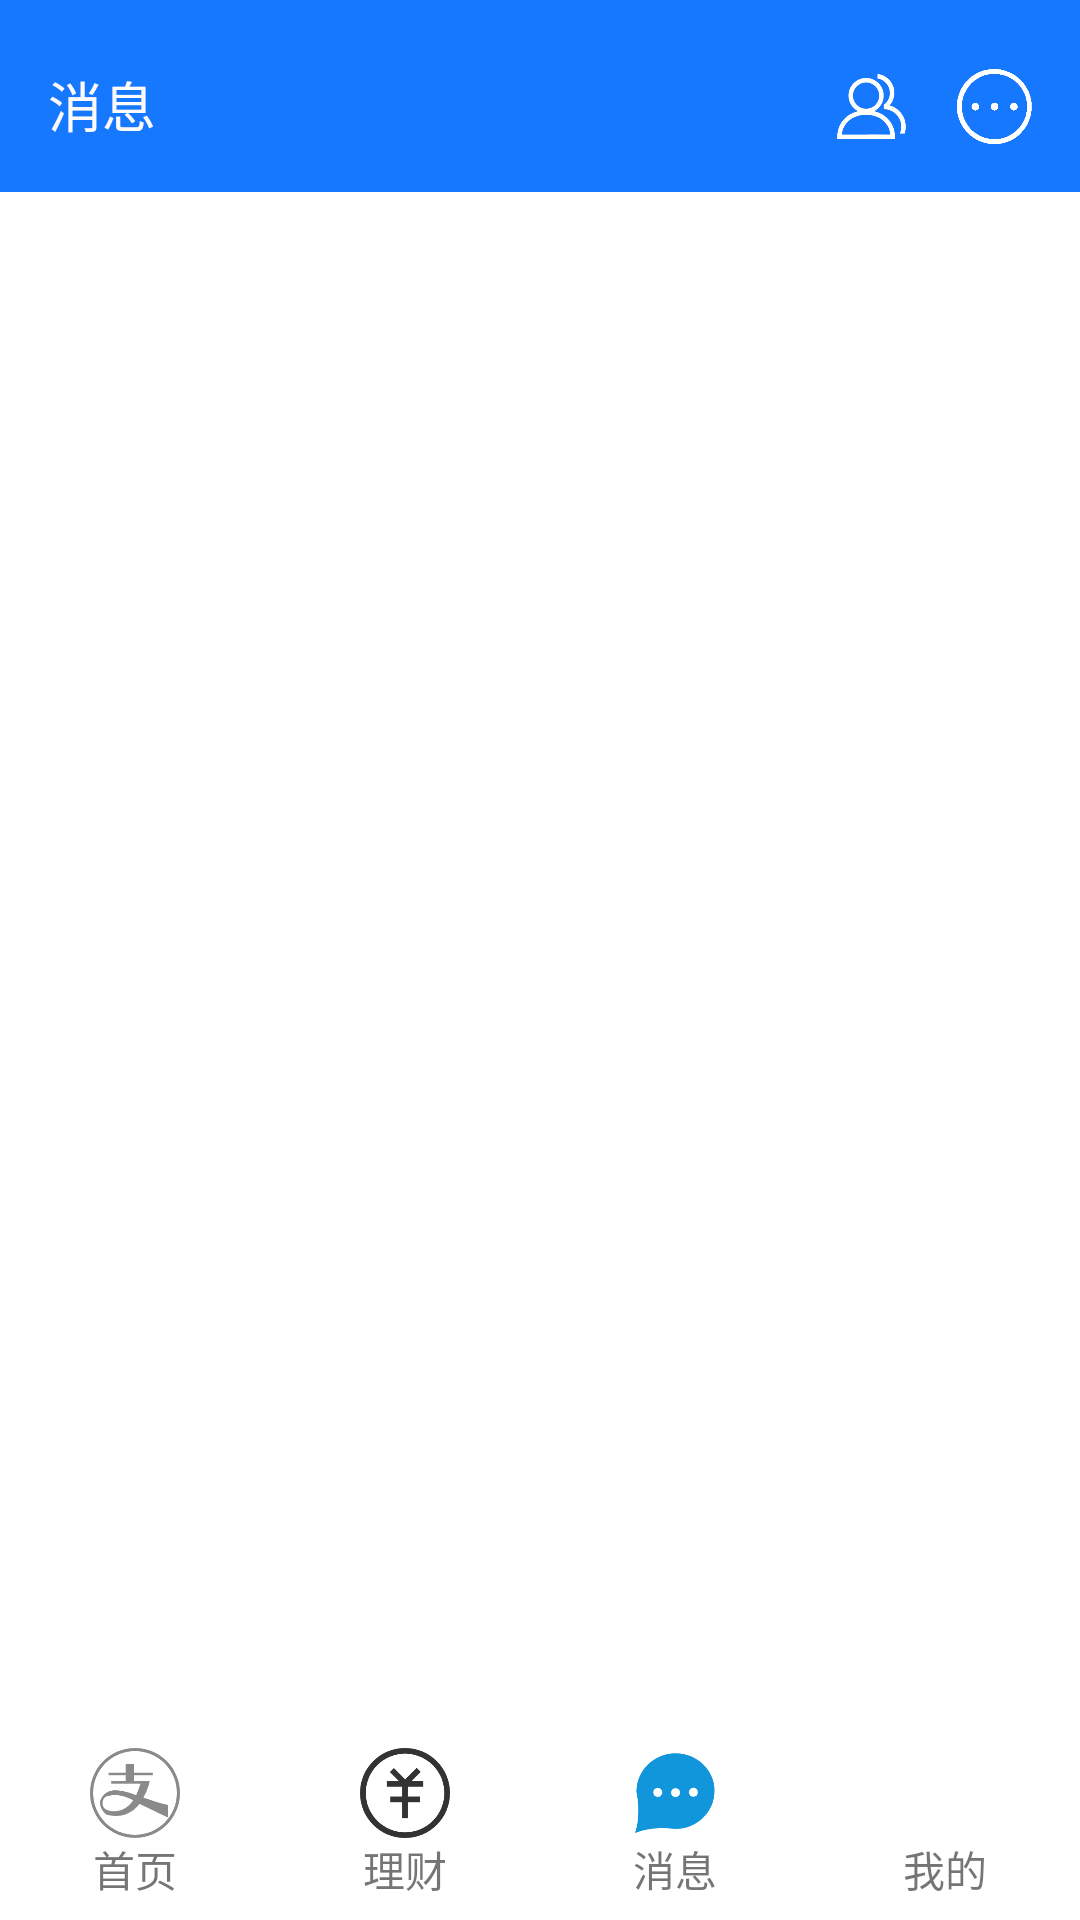

Named icons in this screenshot (1080 × 1920) and their centers, (x,y):
more: (994,106)
